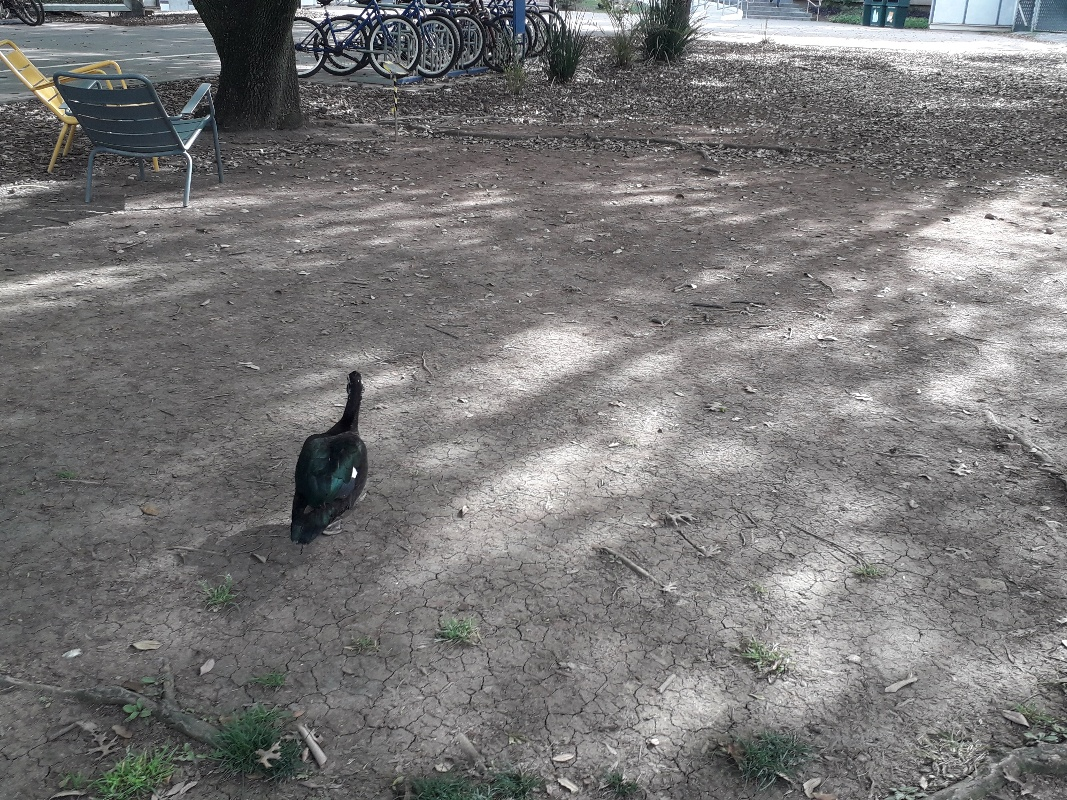pato: (288, 360, 368, 535)
